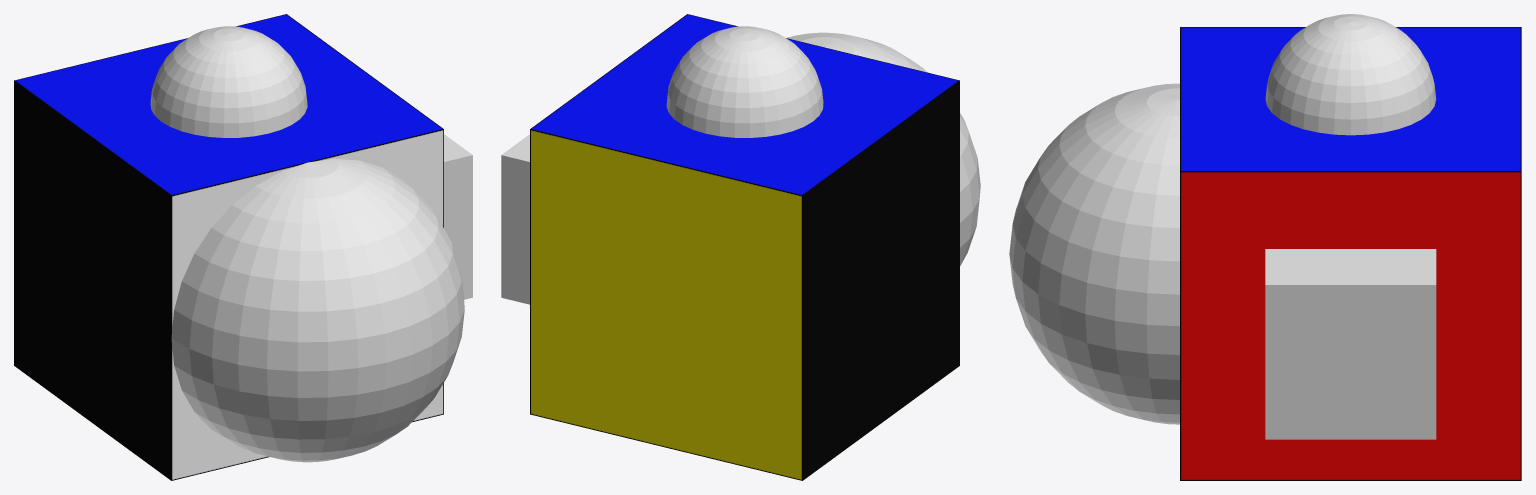
Rendered from colored_cube_sign.dae.
The picture shows the model from 3 angles, left to right: view 1: azimuth 30°, elevation 25°; view 2: azimuth 150°, elevation 25°; view 3: azimuth 270°, elevation 25°; orthographic projection. The views are drawn at different scales.
Visible parts, largest first — view 1: Cube, Sphere, Sphere.001, Cube.001; view 2: Cube, Sphere.001, Cube.001, Sphere; view 3: Cube, Sphere, Cube.001, Sphere.001.
Boxes of the visible parts, x1,y1,x2,y2 form: Cube: [14, 14, 443, 480]; Sphere: [171, 158, 464, 462]; Sphere.001: [150, 26, 307, 137]; Cube.001: [444, 134, 472, 299]; Cube: [530, 14, 959, 480]; Sphere.001: [666, 26, 823, 137]; Cube.001: [501, 134, 529, 304]; Sphere: [786, 32, 980, 265]; Cube: [1180, 27, 1521, 480]; Sphere: [1009, 83, 1179, 424]; Cube.001: [1265, 249, 1436, 439]; Sphere.001: [1265, 14, 1436, 135].
Bounding box in the file's own units: 2.5 × 3 × 2.5.
Materials: 1 (1 with a texture image).
